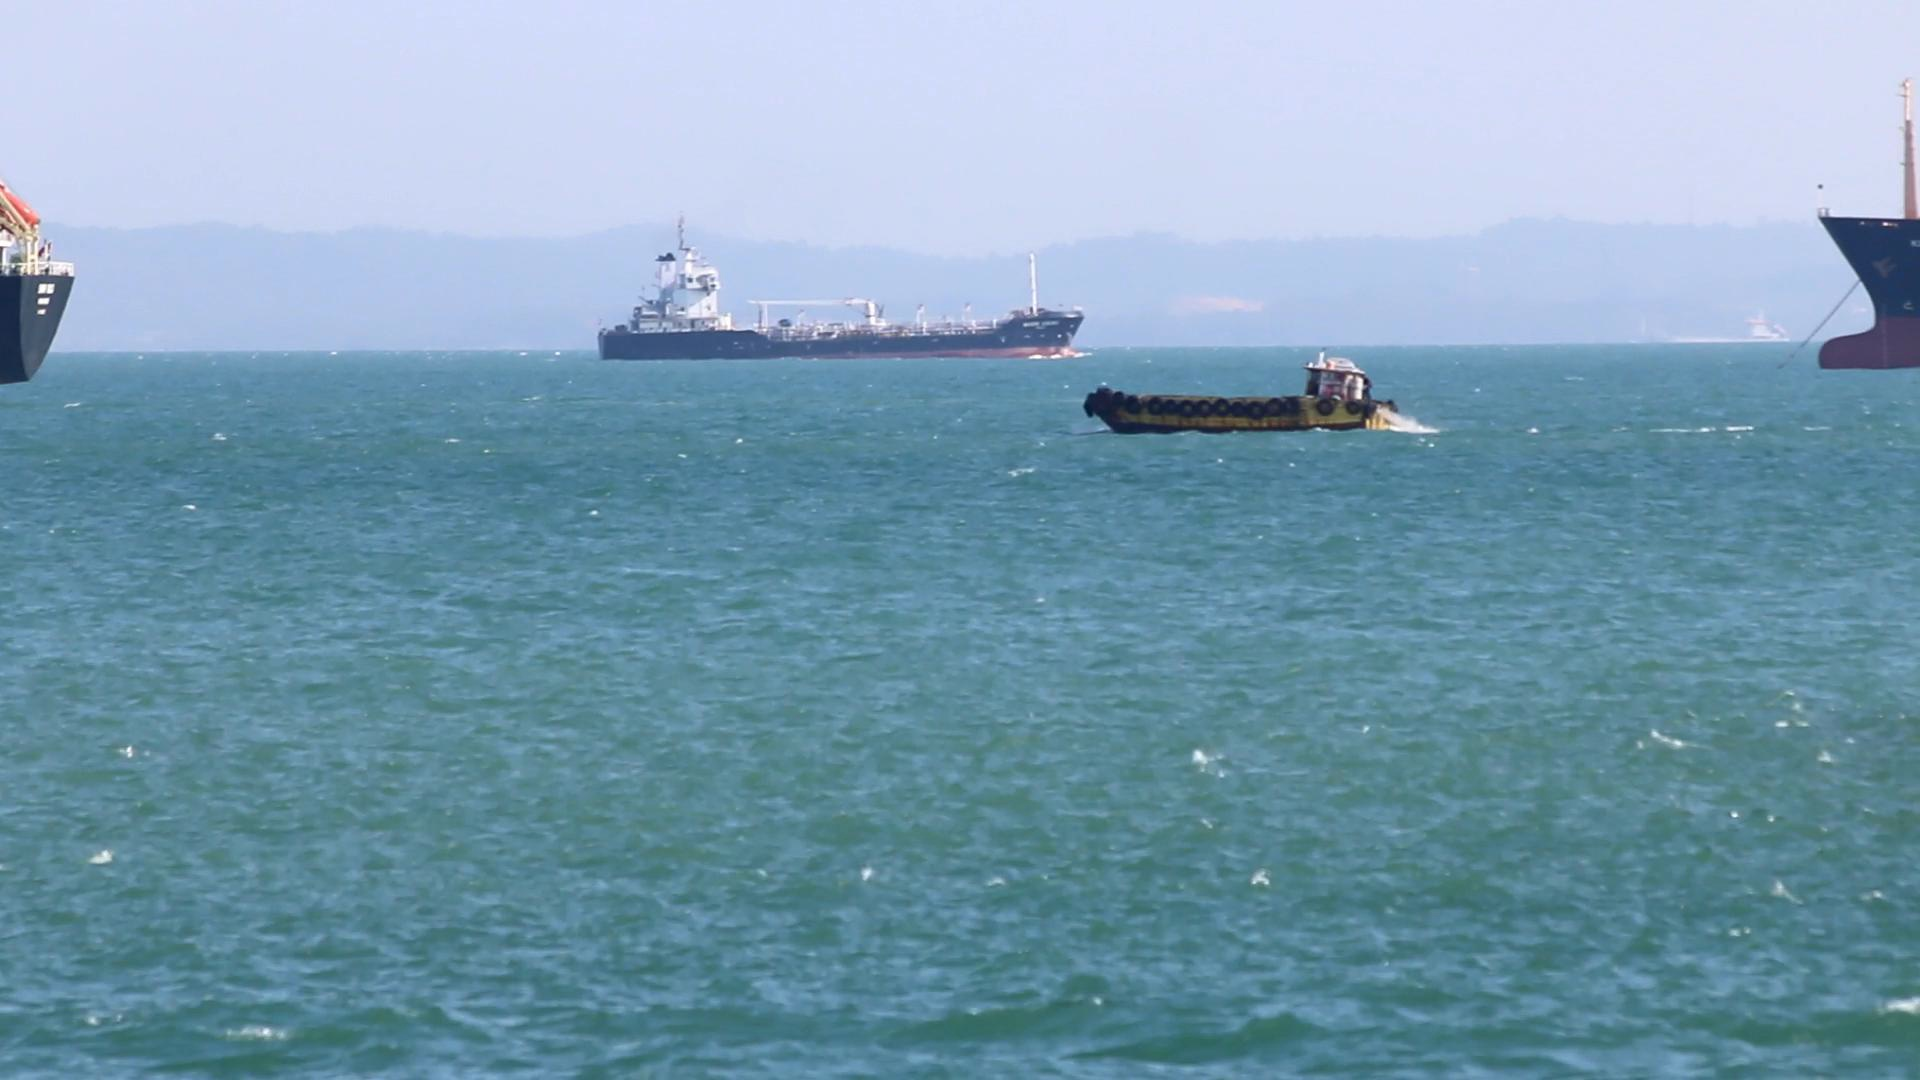Container Ship: (596, 211, 1087, 363), (1819, 75, 1920, 369), (0, 175, 74, 384)
